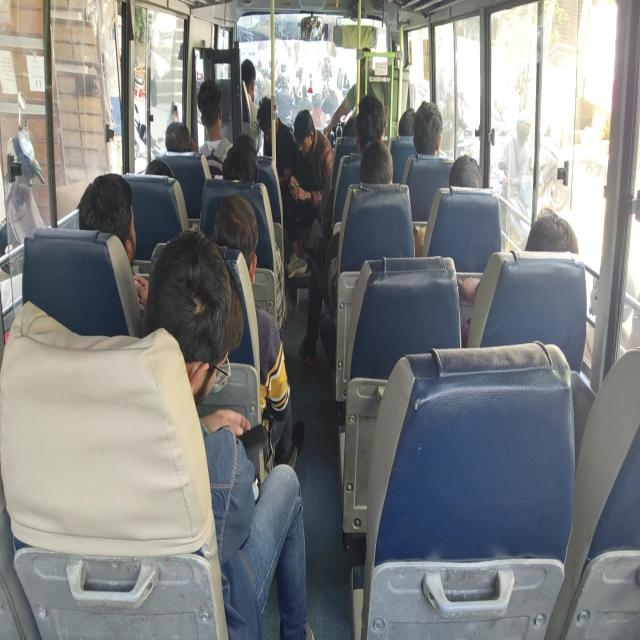person: (152, 256, 226, 398), (207, 197, 256, 280), (81, 178, 133, 251), (530, 207, 574, 270), (189, 77, 225, 141), (219, 147, 260, 196), (450, 156, 486, 202), (360, 146, 396, 190), (154, 151, 180, 196), (356, 107, 384, 146), (166, 123, 194, 162), (422, 109, 445, 152), (295, 117, 316, 155), (258, 98, 278, 136), (238, 63, 261, 94), (235, 129, 256, 158), (401, 114, 420, 146)
